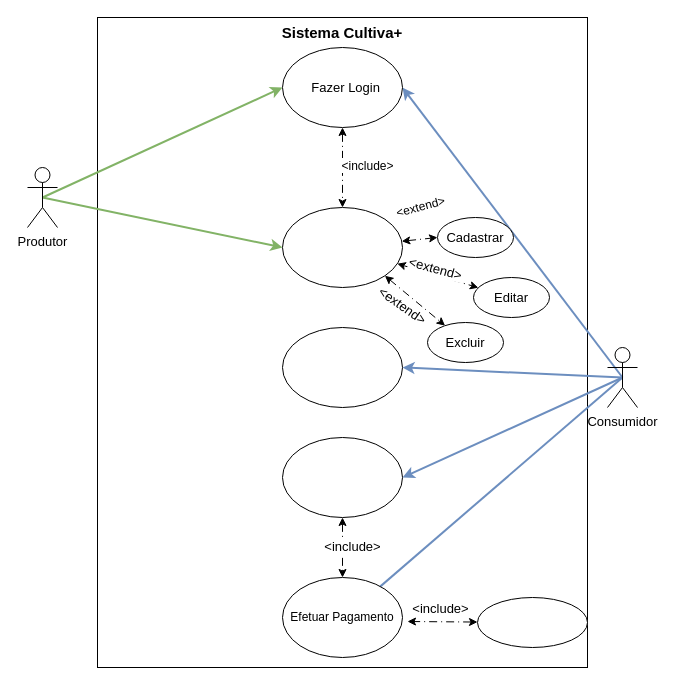
This 674x685 diagram has some shape labels left out. The centre of each missing label's shape, as x and y in pixels:
"Escolher Forma de Pagamento" belongs at pixel 532 622.
"Escolher Produtos" belongs at pixel 342 367.
"Finalizar Compra" belongs at pixel 342 477.
"Gerenciar Produtos" belongs at pixel 342 247.
